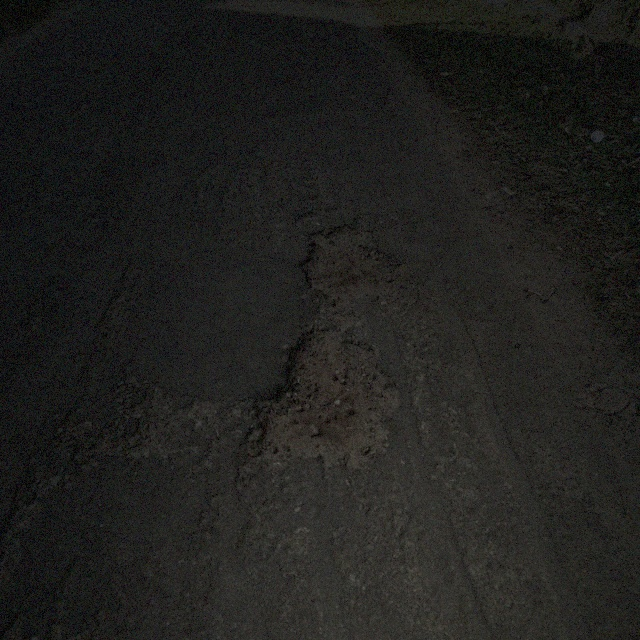pothole: (250, 321, 402, 468), (52, 380, 202, 463), (299, 216, 400, 299)
